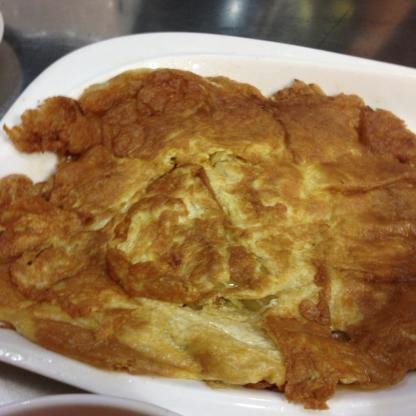Omelette: (10, 68, 416, 414)
